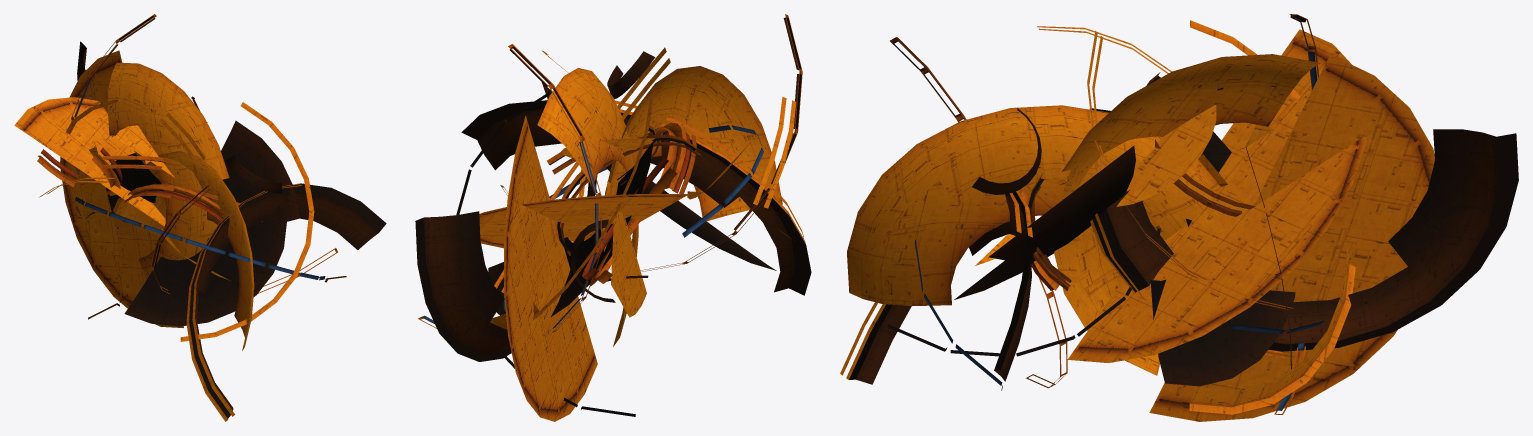
Rendered from MonsterB_Die8.obj.
3 views of the same model, side by side, from view 1: azimuth 30°, elevation 25°; view 2: azimuth 150°, elevation 25°; view 3: azimuth 270°, elevation 25° (orthographic). The views are drawn at different scales.
Parts seen in each view (by area): view 1: Sphere001; view 2: Sphere001; view 3: Sphere001.
Boxes of the visible parts, left/top/right/bottom form: Sphere001: left=14, top=14, right=386, bottom=421; Sphere001: left=415, top=14, right=811, bottom=421; Sphere001: left=840, top=14, right=1518, bottom=421.
Size of the model in its own units: 236 by 220 by 316.
Materials: 1 (1 with a texture image).
